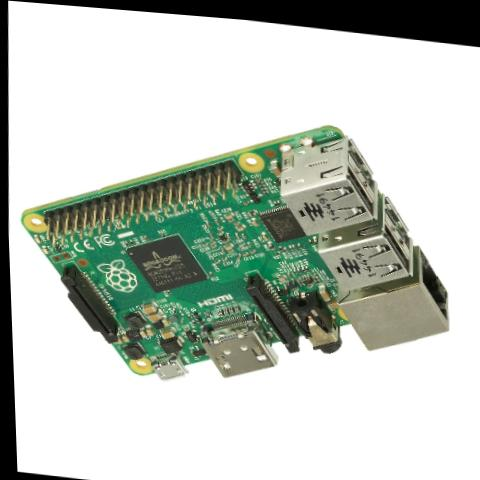Raspberry-Pi-2-Model-B: (2, 77, 472, 419)
